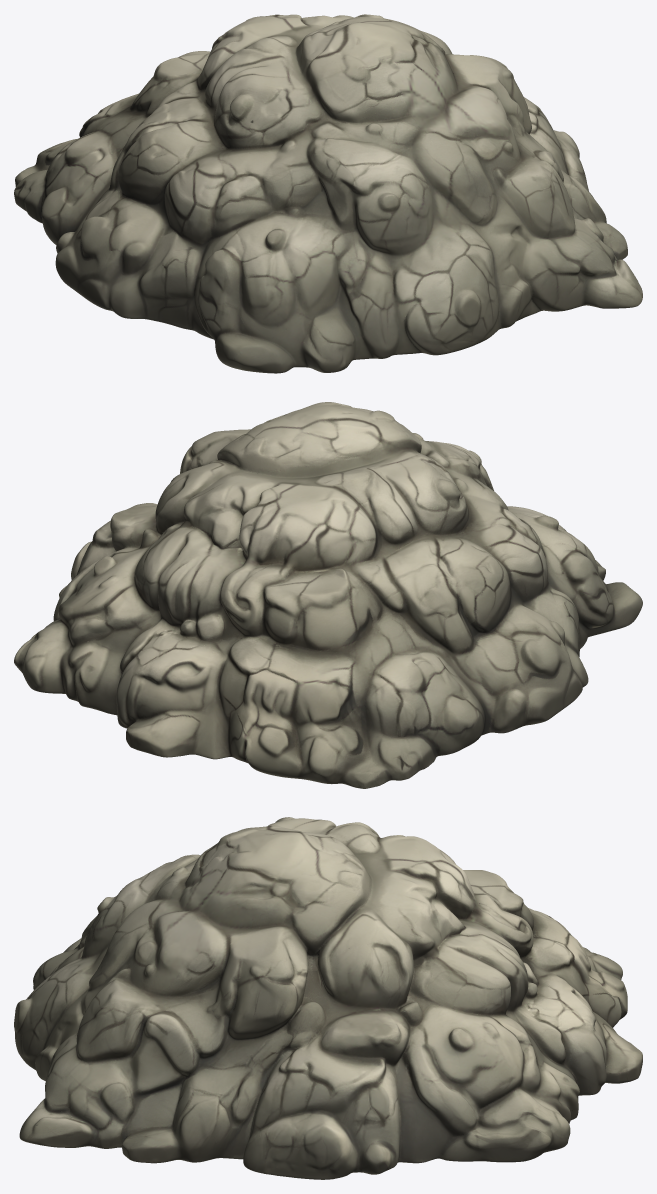
The model's file is Meshy_AI_Craggy_Rock_Pile_0216145800_texture.fbx.
3 renders of one model, top to bottom at view 1: azimuth 30°, elevation 25°; view 2: azimuth 150°, elevation 25°; view 3: azimuth 270°, elevation 25°, orthographic. The views are drawn at different scales.
Parts seen in each view (by area): view 1: Mesh_0; view 2: Mesh_0; view 3: Mesh_0.
Part boxes in pixels (bbox=[...]): Mesh_0: bbox=[14, 14, 642, 373]; Mesh_0: bbox=[14, 402, 642, 788]; Mesh_0: bbox=[14, 817, 642, 1179].
Bounding box in the file's own units: 178 × 76.59 × 190.
Materials: 1 (1 with a texture image).
